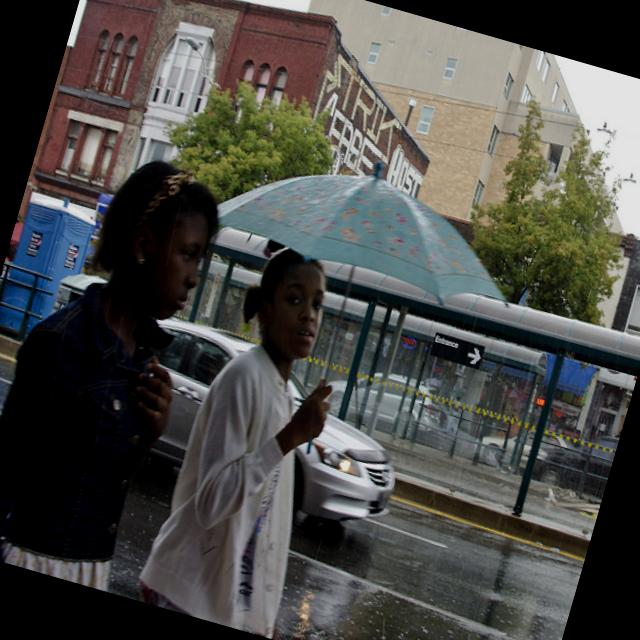Vehicle: (121, 312, 425, 540), (318, 356, 452, 451), (534, 416, 620, 499), (476, 418, 568, 484)
